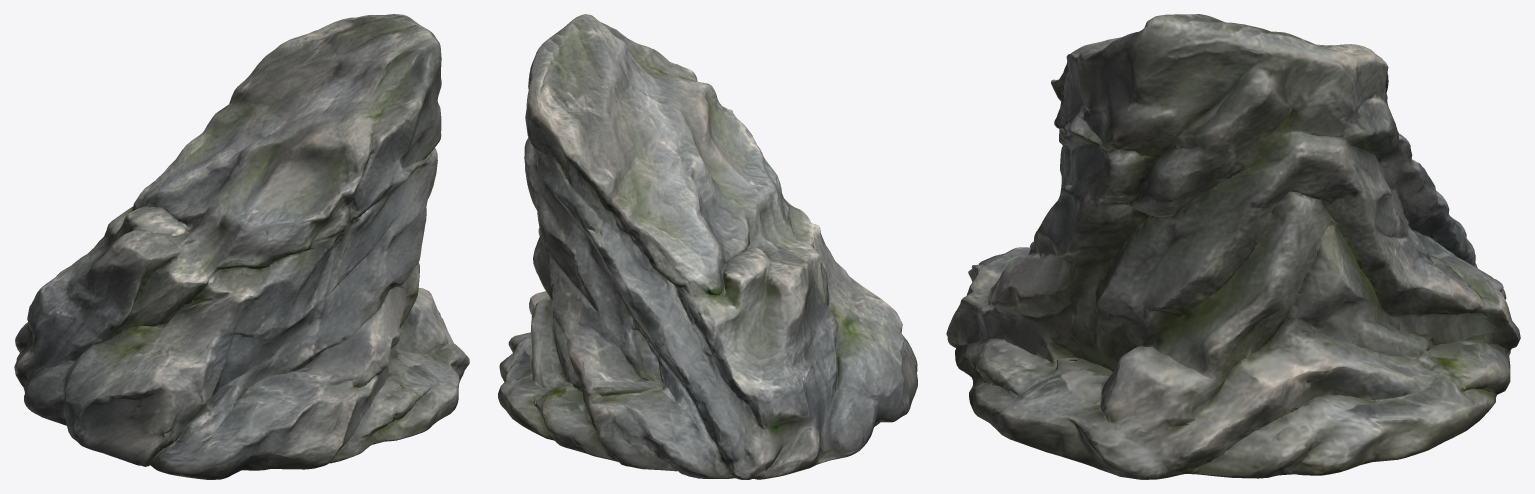
The model's file is coastal-boulder-v001.glb.
The picture shows the model from 3 angles, left to right: view 1: azimuth 30°, elevation 25°; view 2: azimuth 150°, elevation 25°; view 3: azimuth 270°, elevation 25°; orthographic projection. The views are drawn at different scales.
Parts seen in each view (by area): view 1: geometry_0; view 2: geometry_0; view 3: geometry_0.
Boxes of the visible parts, x1,y1,x2,y2 form: geometry_0: (14,14,469,479); geometry_0: (498,14,917,479); geometry_0: (946,14,1520,479).
Bounding box in the file's own units: 1.2 × 1.04 × 1.2.
1 material, 1 textured.
